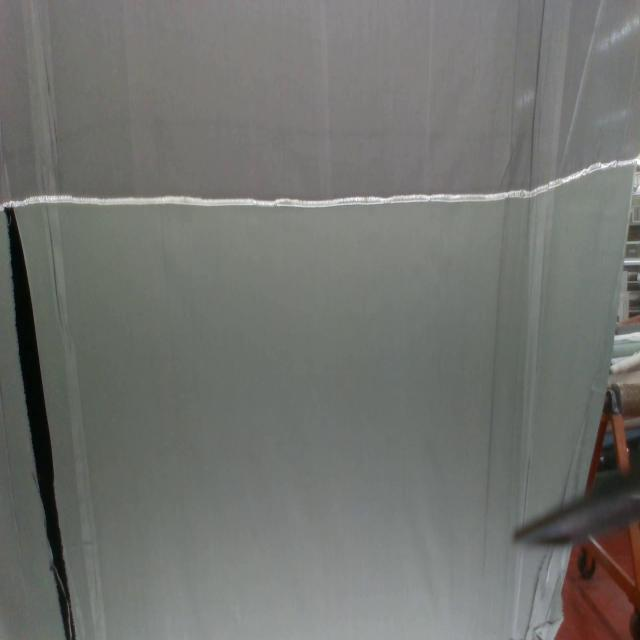crease: (43, 202, 107, 640), (520, 200, 551, 522), (482, 198, 507, 573), (561, 0, 605, 167), (34, 13, 66, 180), (526, 1, 549, 191)
hole: (4, 204, 77, 640)
